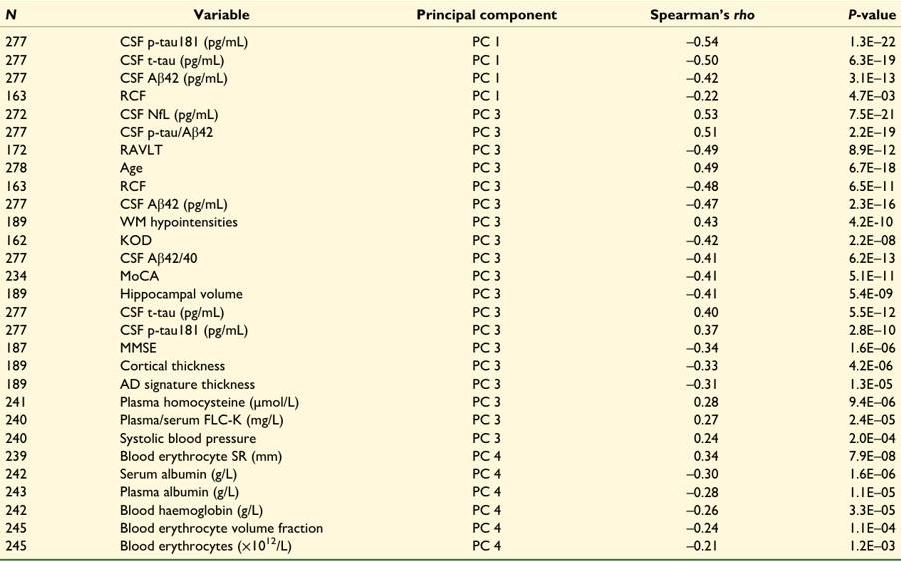table: (4, 4, 895, 556)
table column: (72, 4, 369, 556), (369, 4, 603, 556), (603, 4, 800, 556), (800, 4, 895, 556), (4, 4, 72, 556)
table column header: (4, 4, 895, 27)
table row: (4, 4, 895, 27), (4, 27, 895, 49), (4, 535, 895, 556), (4, 481, 895, 500), (4, 49, 895, 67), (4, 67, 895, 85), (4, 85, 895, 103), (4, 103, 895, 121), (4, 121, 895, 139), (4, 139, 895, 157), (4, 157, 895, 175), (4, 175, 895, 193), (4, 193, 895, 211), (4, 211, 895, 229), (4, 229, 895, 247), (4, 247, 895, 265), (4, 265, 895, 283), (4, 283, 895, 301), (4, 301, 895, 319), (4, 319, 895, 337), (4, 337, 895, 355), (4, 355, 895, 373), (4, 373, 895, 391), (4, 391, 895, 409), (4, 409, 895, 427), (4, 427, 895, 445), (4, 445, 895, 463), (4, 463, 895, 481), (4, 500, 895, 518), (4, 518, 895, 535)
